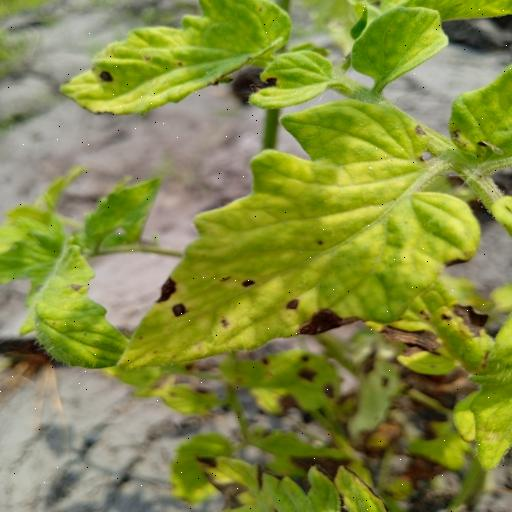Tomato_Brown_Spots: (110, 102, 483, 376)
